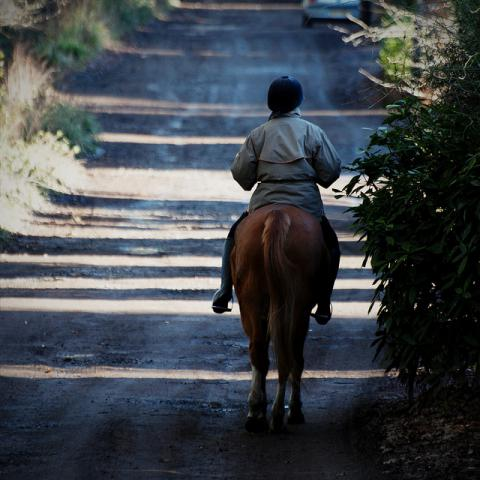car: (301, 0, 364, 28)
